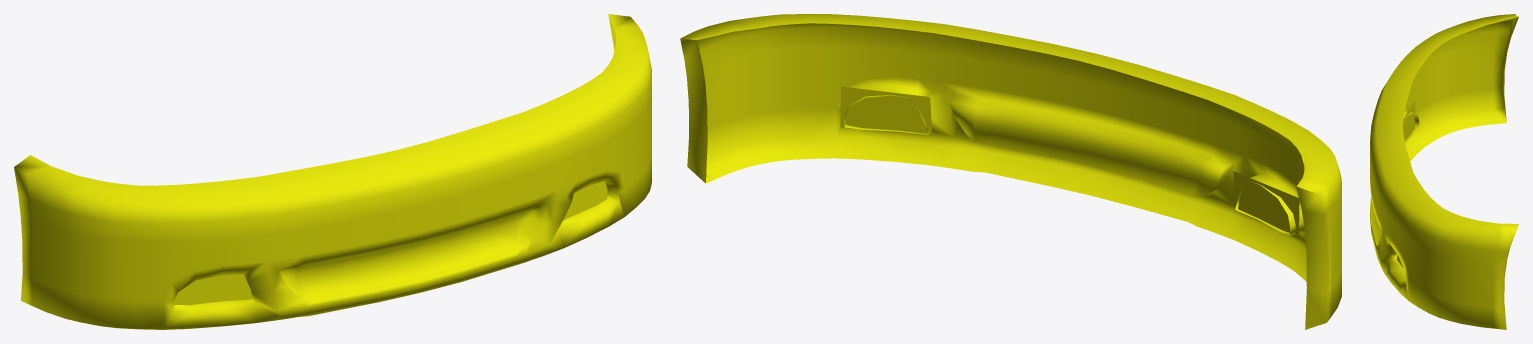
The model's file is Accent_V2_Front_Bumper.fbx.
The picture shows the model from 3 angles, left to right: view 1: azimuth 30°, elevation 25°; view 2: azimuth 150°, elevation 25°; view 3: azimuth 270°, elevation 25°; orthographic projection. The views are drawn at different scales.
Visible parts, largest first — view 1: Accent_V2_Front_Bumper; view 2: Accent_V2_Front_Bumper; view 3: Accent_V2_Front_Bumper.
Boxes of the visible parts, bbox=[...] form: Accent_V2_Front_Bumper: bbox=[14, 14, 651, 329]; Accent_V2_Front_Bumper: bbox=[680, 14, 1341, 329]; Accent_V2_Front_Bumper: bbox=[1370, 14, 1518, 329].
Size of the model in its own units: 29.65 by 6.64 by 8.45.
